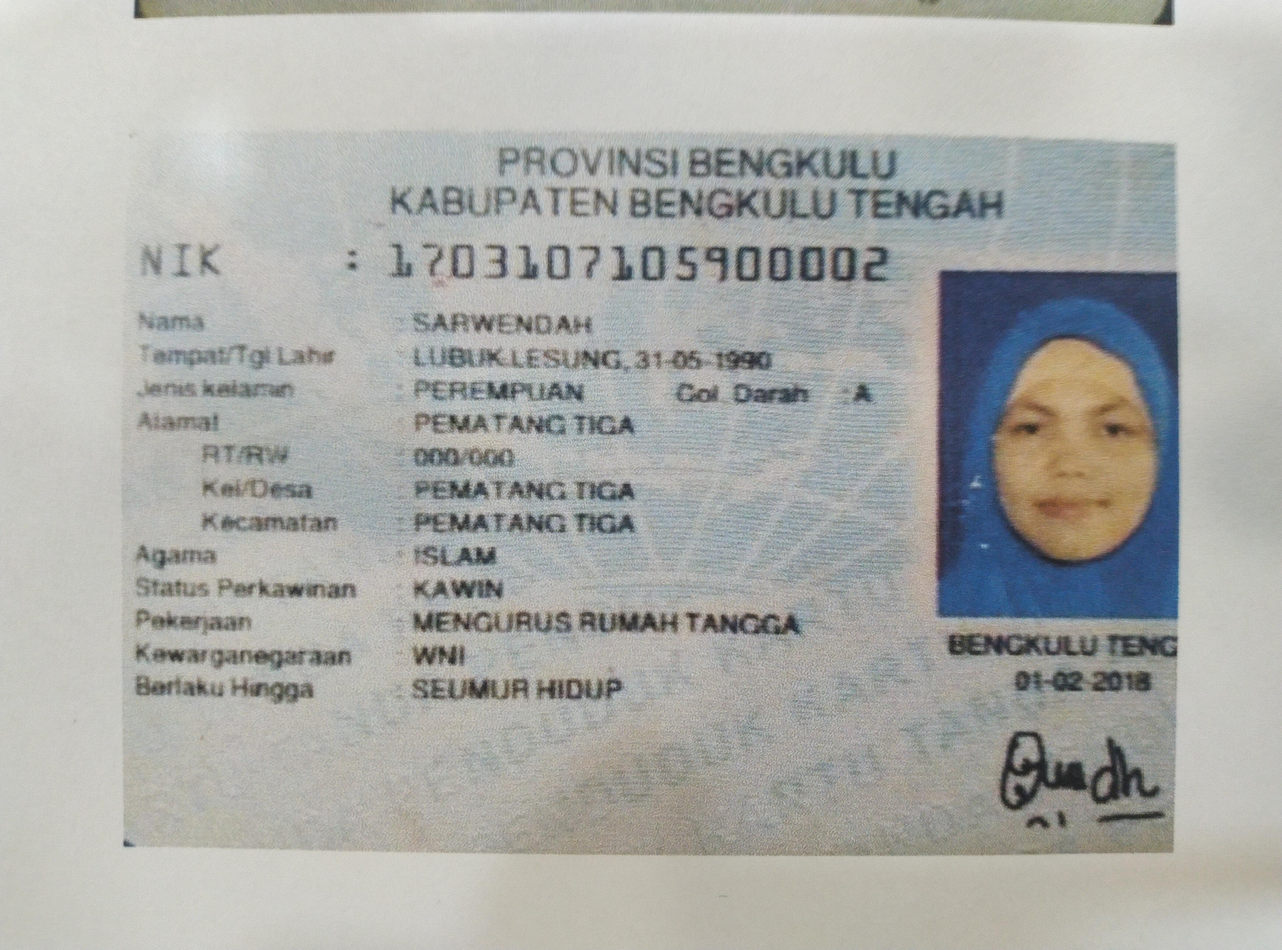ID-card: (126, 142, 1172, 843)
